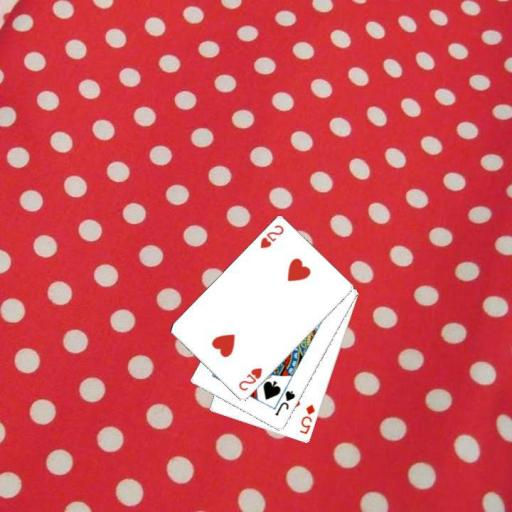2H: (257, 222, 285, 250), (235, 365, 264, 392)
5D: (297, 401, 317, 436)
JS: (272, 388, 297, 418)
